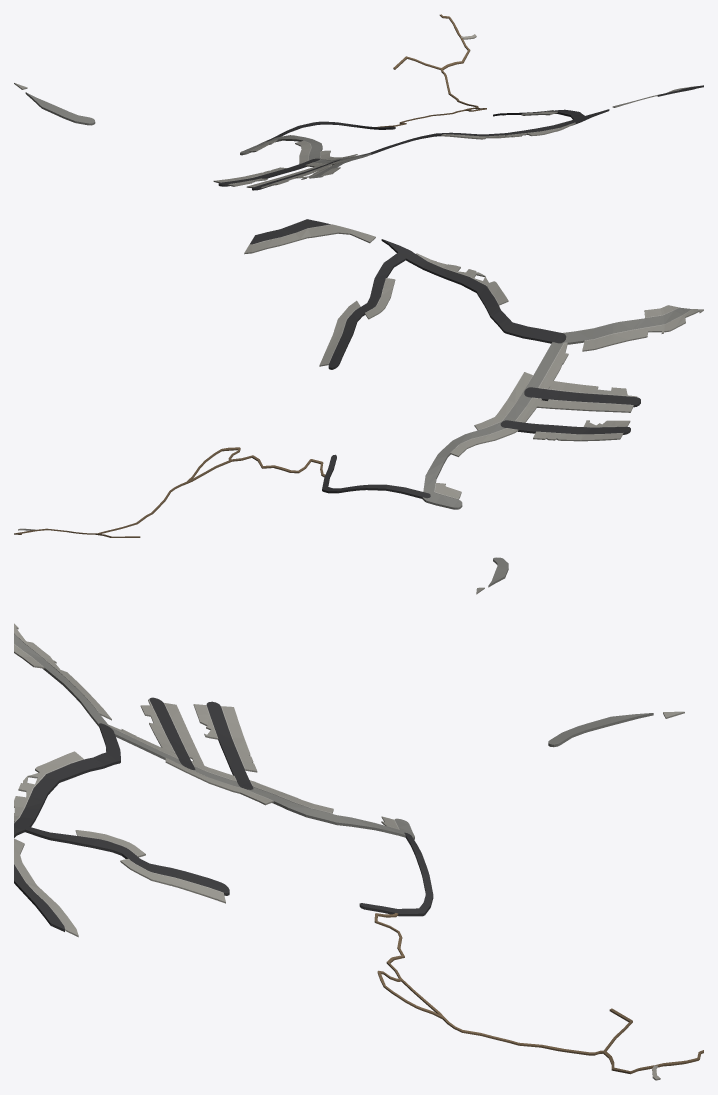
3 renders of one model, top to bottom at view 1: azimuth 30°, elevation 25°; view 2: azimuth 150°, elevation 25°; view 3: azimuth 270°, elevation 25°, orthographic. The views are drawn at different scales.
Size of the model in its own units: 293 by 91.79 by 292.
